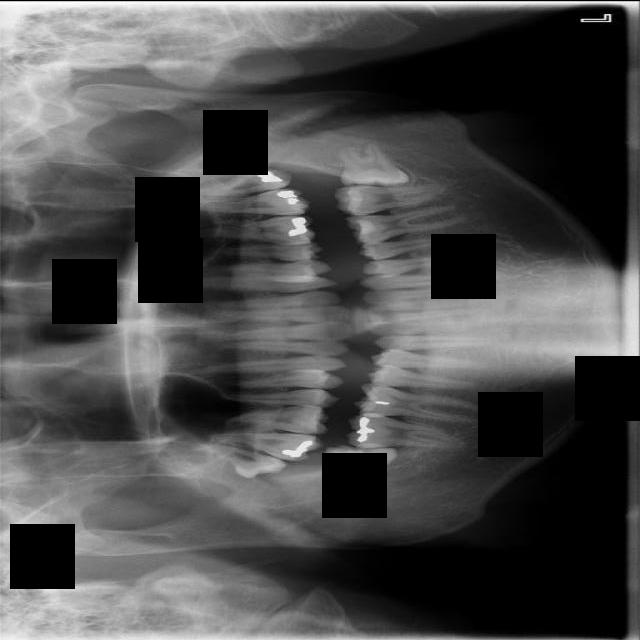3M ESPE Implant: (191, 437, 288, 486)
52: (242, 214, 316, 247), (345, 203, 391, 251), (351, 376, 398, 422), (233, 161, 293, 197), (345, 409, 394, 450), (267, 431, 324, 462), (259, 185, 312, 218)
73: (586, 38, 599, 44)
BioHorizons Implant: (193, 187, 311, 216)
BioLife Implant: (191, 158, 294, 205)
Biomet 3i Implant: (340, 141, 409, 186)
Blue Sky Bio Implant: (333, 180, 431, 216)
Caries: (211, 429, 325, 462)
Implant: (346, 411, 462, 448)
Keystone Dental Implant: (322, 438, 401, 492)
